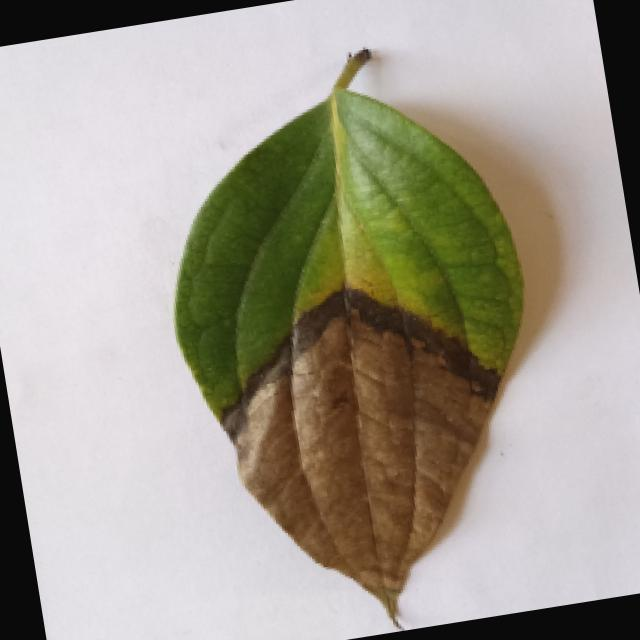footrot: (142, 37, 579, 640)
